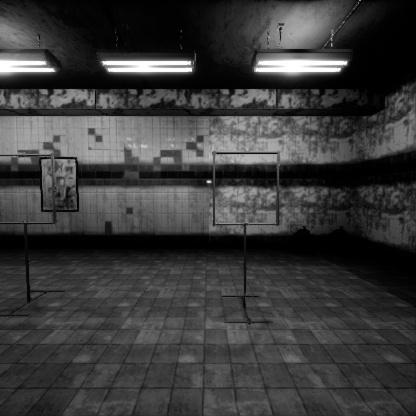gate: (212, 189, 286, 265)
